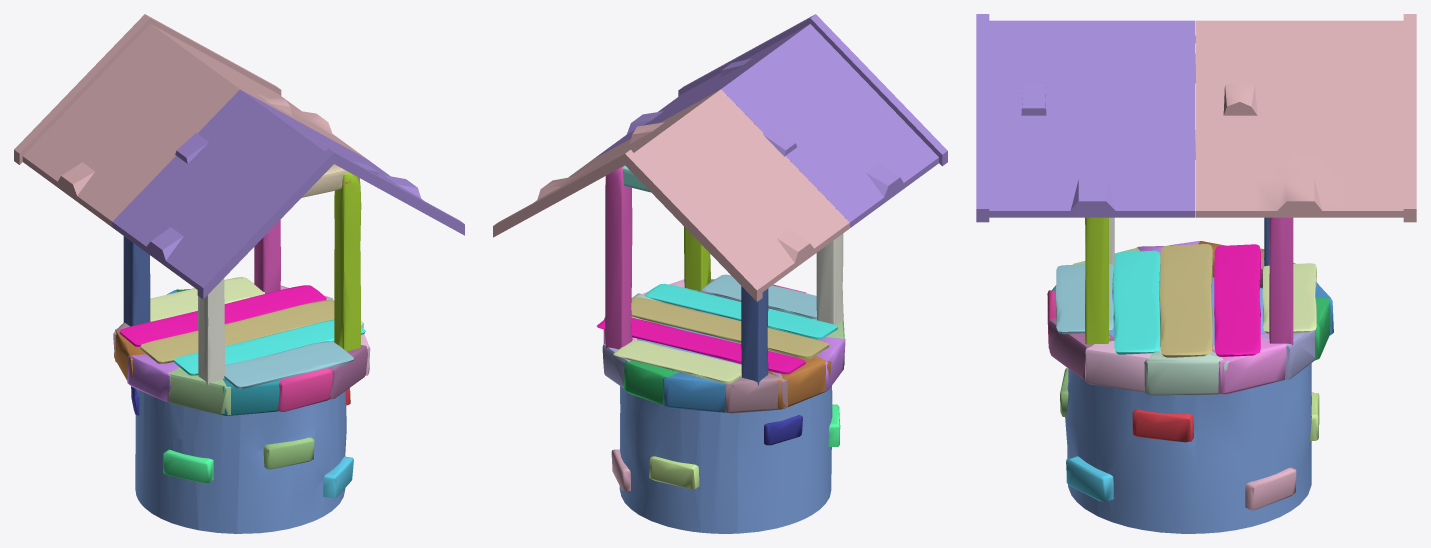
3 renders of one model, left to right at view 1: azimuth 30°, elevation 25°; view 2: azimuth 150°, elevation 25°; view 3: azimuth 270°, elevation 25°, orthographic. The views are drawn at different scales.
Visible parts, largest first — view 1: split_parent_0, split_parent_34, split_parent_2, Plane_Material.027_0, Plane_Material.045_0, Plane_Material.046_0, Plane_Material.048_0, Plane_Material.043_0, split_parent_16, Plane_Material.029_0, split_parent_8, Plane_Material.047_0 (+10 smaller); view 2: split_parent_0, split_parent_34, split_parent_2, Plane_Material.030_0, Plane_Material.045_0, Plane_Material.043_0, Plane_Material.046_0, Plane_Material.047_0, Plane_Material.029_0, split_parent_16, Plane_Material.009_0, Plane_Material.008_0 (+9 smaller); view 3: split_parent_0, split_parent_34, split_parent_2, Plane_Material.045_0, Plane_Material.046_0, Plane_Material.043_0, Plane_Material.030_0, Plane_Material.027_0, Plane_Material_0, Plane_Material.013_0, split_parent_4, Plane_Material.048_0 (+7 smaller).
Part boxes in pixels (<box>): split_parent_0: <box>14,14,366,226</box>; split_parent_34: <box>112,89,464,299</box>; split_parent_2: <box>135,389,346,533</box>; Plane_Material.027_0: <box>334,172,361,351</box>; Plane_Material.045_0: <box>140,300,334,363</box>; Plane_Material.046_0: <box>119,285,326,346</box>; Plane_Material.048_0: <box>224,341,353,388</box>; Plane_Material.043_0: <box>174,319,365,375</box>; split_parent_16: <box>198,278,224,384</box>; Plane_Material.029_0: <box>123,236,150,326</box>; split_parent_8: <box>168,367,231,415</box>; Plane_Material.047_0: <box>150,277,264,321</box>; split_parent_0: <box>493,89,849,301</box>; split_parent_34: <box>594,14,947,227</box>; split_parent_2: <box>619,311,832,533</box>; Plane_Material.030_0: <box>605,165,632,349</box>; Plane_Material.045_0: <box>631,297,828,359</box>; Plane_Material.043_0: <box>644,283,837,339</box>; Plane_Material.046_0: <box>597,317,805,374</box>; Plane_Material.047_0: <box>613,340,741,383</box>; Plane_Material.029_0: <box>741,286,768,385</box>; split_parent_16: <box>816,233,843,324</box>; Plane_Material.009_0: <box>663,370,733,412</box>; Plane_Material.008_0: <box>724,371,787,413</box>; split_parent_0: <box>1195,14,1416,222</box>; split_parent_34: <box>976,14,1195,222</box>; split_parent_2: <box>1065,277,1311,533</box>; Plane_Material.045_0: <box>1160,244,1212,357</box>; Plane_Material.046_0: <box>1214,244,1260,356</box>; Plane_Material.043_0: <box>1113,250,1160,354</box>; Plane_Material.030_0: <box>1269,217,1293,345</box>; Plane_Material.027_0: <box>1085,217,1108,344</box>; Plane_Material_0: <box>1144,345,1229,395</box>; Plane_Material.013_0: <box>1212,333,1286,394</box>; split_parent_4: <box>1085,336,1151,392</box>; Plane_Material.048_0: <box>1056,263,1113,334</box>.
Size of the model in its own units: 0.6785 by 1 by 0.8498.
